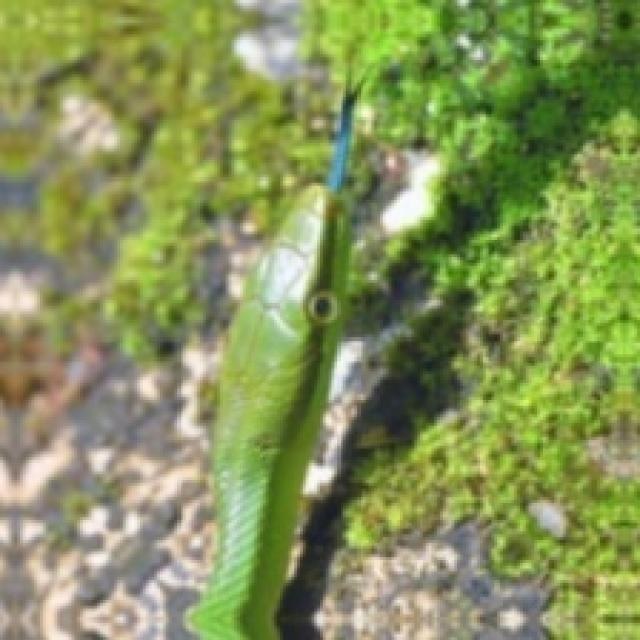red-tailed green ratsnake: (189, 89, 354, 637), (189, 91, 354, 637)
